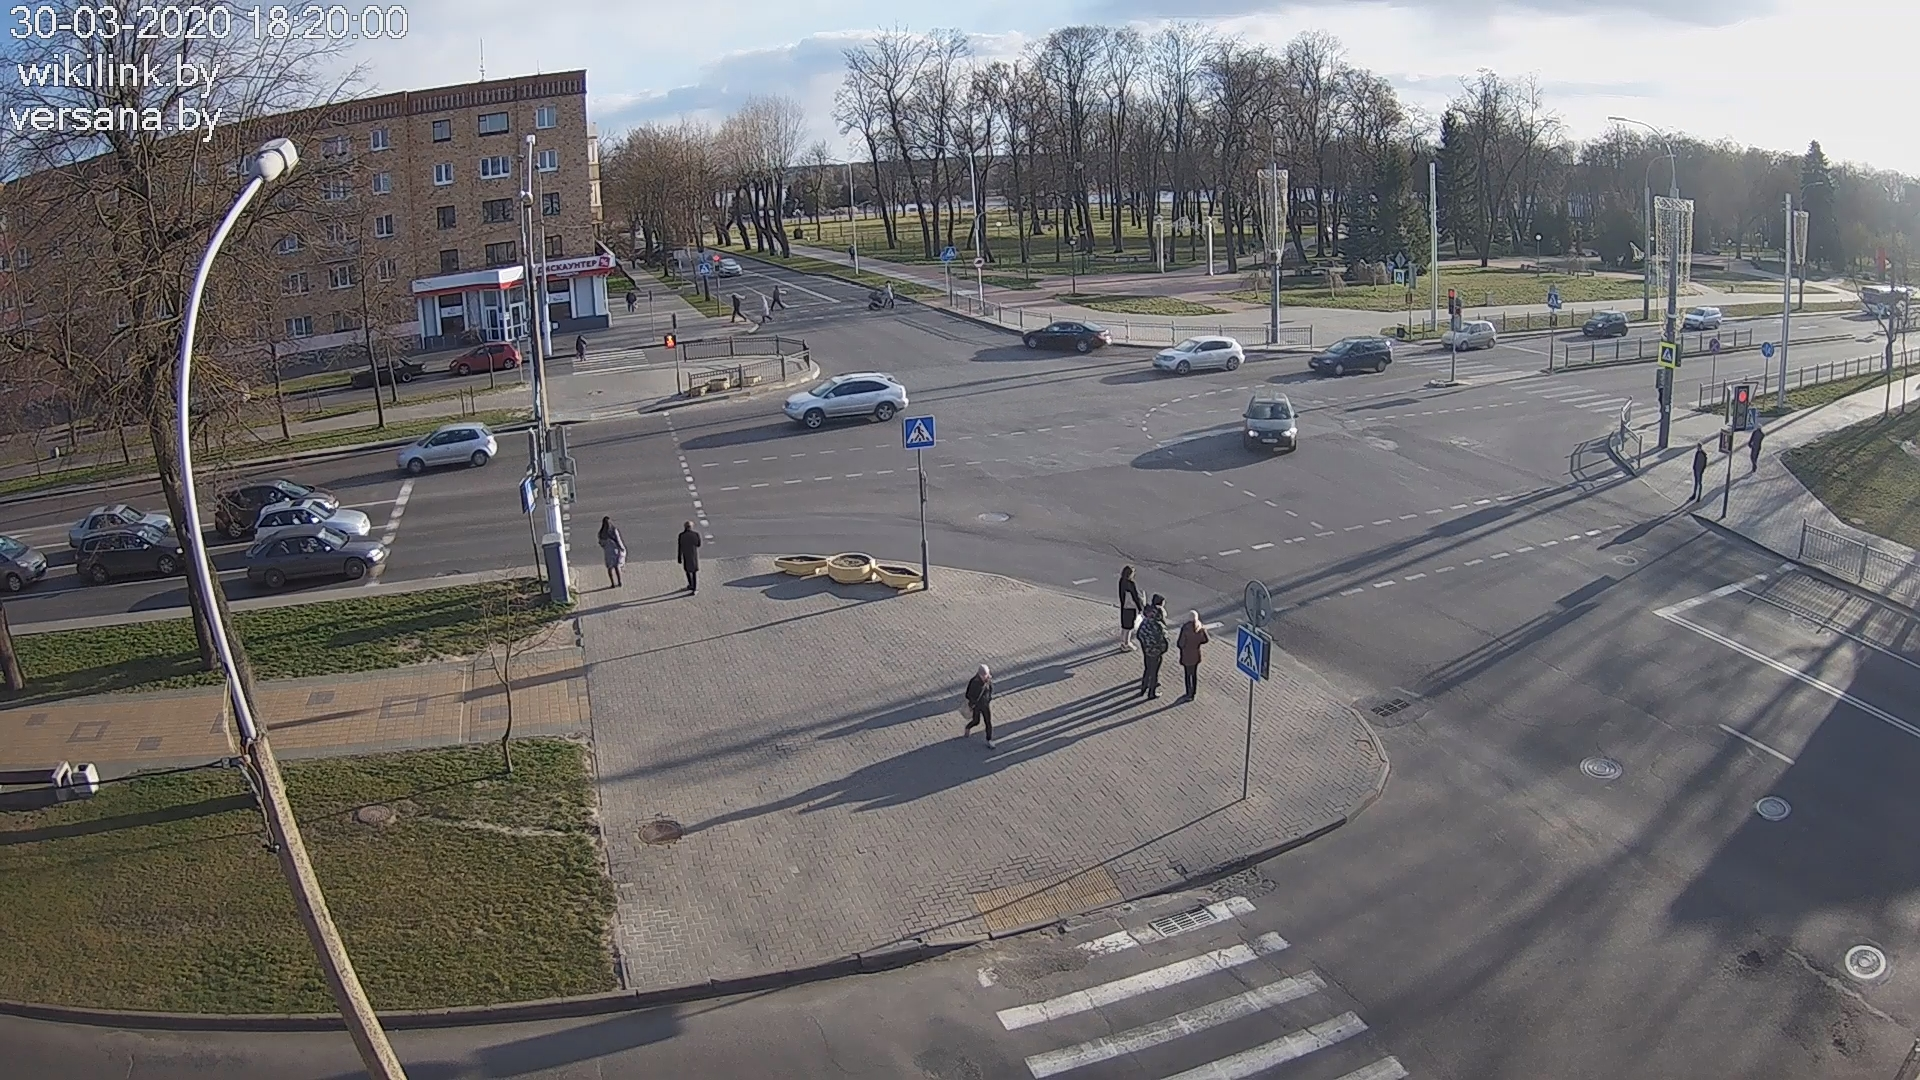car: (245, 524, 385, 589), (215, 477, 338, 539), (783, 371, 910, 429), (76, 524, 185, 583), (396, 421, 498, 475), (253, 498, 371, 541), (69, 502, 171, 549), (1153, 336, 1246, 375), (1307, 336, 1393, 376), (1244, 393, 1299, 448), (1022, 320, 1112, 353), (448, 342, 522, 376), (351, 356, 427, 385), (1443, 320, 1497, 351), (1582, 310, 1630, 339), (1684, 305, 1722, 331), (717, 257, 742, 277)
